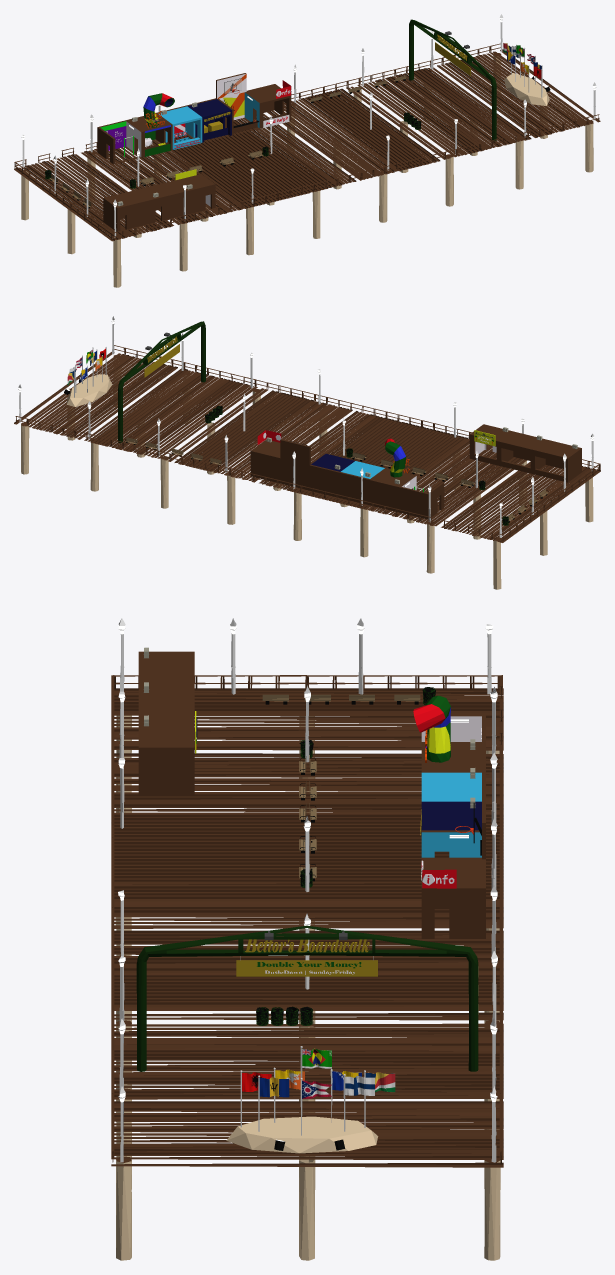
Rendered from Boardwalk.glb.
3 views of the same model, one above another, from view 1: azimuth 30°, elevation 25°; view 2: azimuth 150°, elevation 25°; view 3: azimuth 270°, elevation 25° (orthographic). The views are drawn at different scales.
Parts seen in each view (by area): view 1: Boardwalk, Game or Food Bldg, Railing, Building 2, Lamppost, Roof, Arch, Flagstand, Bench, Flag, Worm, TrashCan; view 2: Boardwalk, Game or Food Bldg, Railing, Building 2, Lamppost, Roof, Arch, Bench, Flagstand, Flag, Worm, TrashCan; view 3: Boardwalk, Game or Food Bldg, Arch, Lamppost, Roof, Railing, Flag, Flagstand, Building 2, Banner, Bench, Worm (+2 smaller).
Part boxes in pixels (<box>): Boardwalk: <box>14,49,600,287</box>; Game or Food Bldg: <box>97,73,291,164</box>; Railing: <box>14,43,599,239</box>; Building 2: <box>103,186,215,231</box>; Lamppost: <box>21,14,596,237</box>; Roof: <box>103,174,215,210</box>; Arch: <box>409,19,496,141</box>; Flagstand: <box>504,73,549,105</box>; Bench: <box>49,75,406,208</box>; Flag: <box>503,43,542,97</box>; Worm: <box>143,93,174,127</box>; TrashCan: <box>45,112,421,188</box>; Boardwalk: <box>14,352,600,589</box>; Game or Food Bldg: <box>250,439,444,519</box>; Railing: <box>15,345,600,541</box>; Building 2: <box>469,436,581,482</box>; Lamppost: <box>18,316,594,537</box>; Roof: <box>469,424,581,460</box>; Arch: <box>118,321,205,442</box>; Bench: <box>125,437,548,522</box>; Flagstand: <box>66,374,112,406</box>; Flag: <box>67,347,106,397</box>; Worm: <box>385,438,406,477</box>; TrashCan: <box>205,405,508,525</box>; Boardwalk: <box>111,688,503,1260</box>; Game or Food Bldg: <box>421,714,485,938</box>; Arch: <box>136,925,478,1071</box>; Lamppost: <box>118,618,497,1162</box>; Roof: <box>138,651,194,751</box>; Railing: <box>111,675,502,1163</box>; Flag: <box>240,1046,395,1135</box>; Flagstand: <box>226,1116,378,1153</box>; Building 2: <box>138,752,194,795</box>; Banner: <box>236,956,377,976</box>; Bench: <box>262,694,478,1014</box>; Worm: <box>413,695,450,762</box>.
Size of what is drawn, in the model's own units: 70.72 by 16.8 by 24.57.
Materials: 54 (8 with a texture image).
